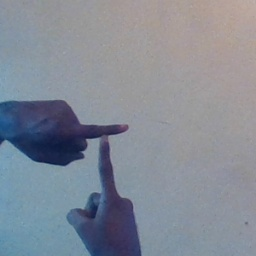T: (60, 109, 147, 210)
